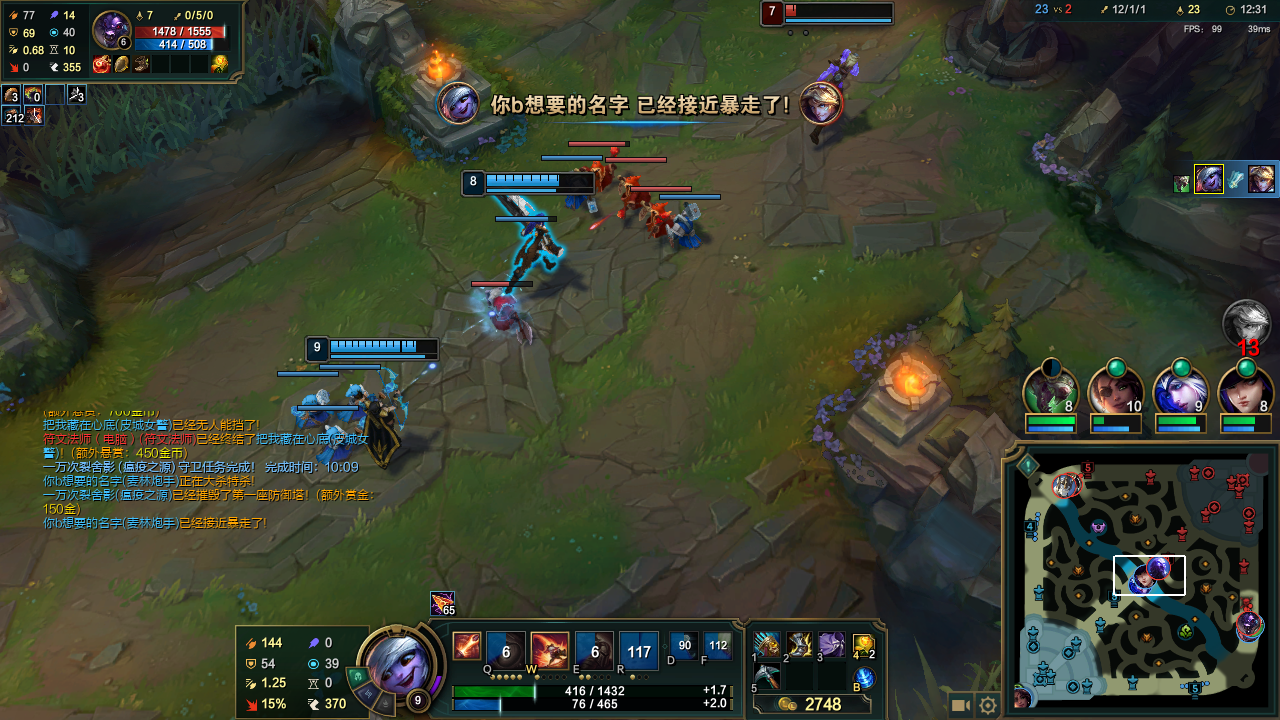DFXB: (475, 291, 531, 345), (645, 197, 677, 243), (617, 170, 652, 212)
DFYX: (784, 7, 838, 28)
WFXB: (283, 387, 336, 429), (308, 418, 355, 461), (660, 205, 704, 247), (344, 378, 376, 421)
Yita: (1185, 673, 1202, 701)
